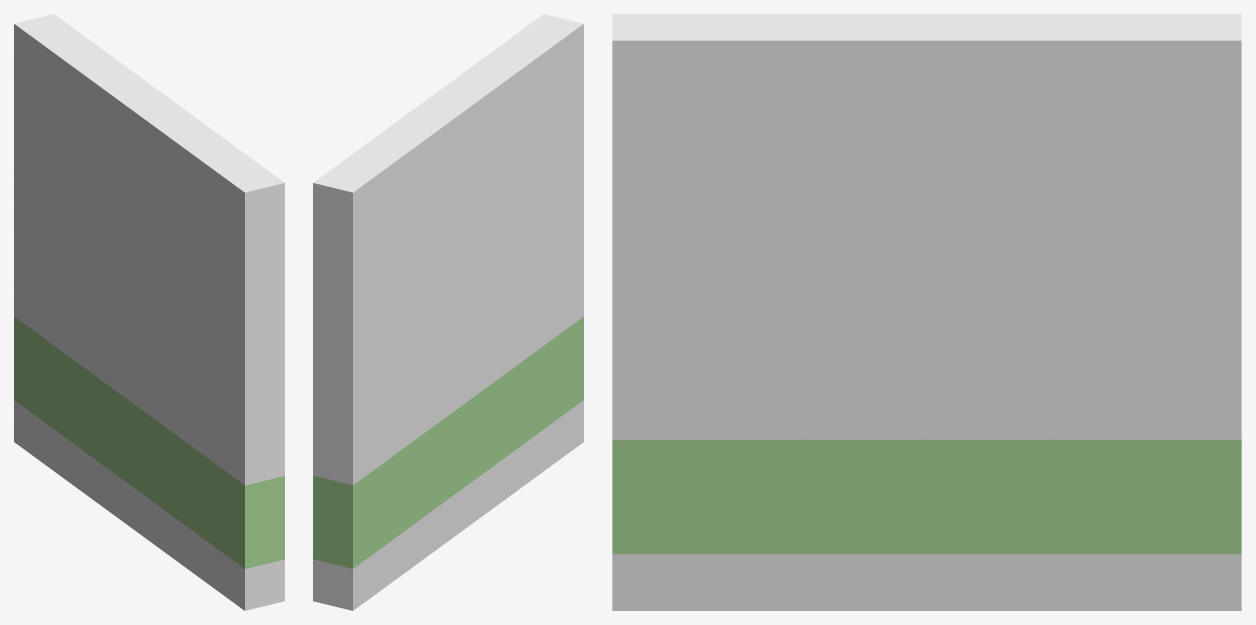
Rendered from wallnodoor.fbx.
The picture shows the model from 3 angles, left to right: view 1: azimuth 30°, elevation 25°; view 2: azimuth 150°, elevation 25°; view 3: azimuth 270°, elevation 25°; orthographic projection. The views are drawn at different scales.
Parts seen in each view (by area): view 1: Cube; view 2: Cube; view 3: Cube.
Part boxes in pixels (x1,y1,x2,y2): Cube: (14, 14, 284, 610); Cube: (313, 14, 583, 610); Cube: (612, 14, 1241, 610).
Bounding box in the file's own units: 100 × 1000 × 1000.
